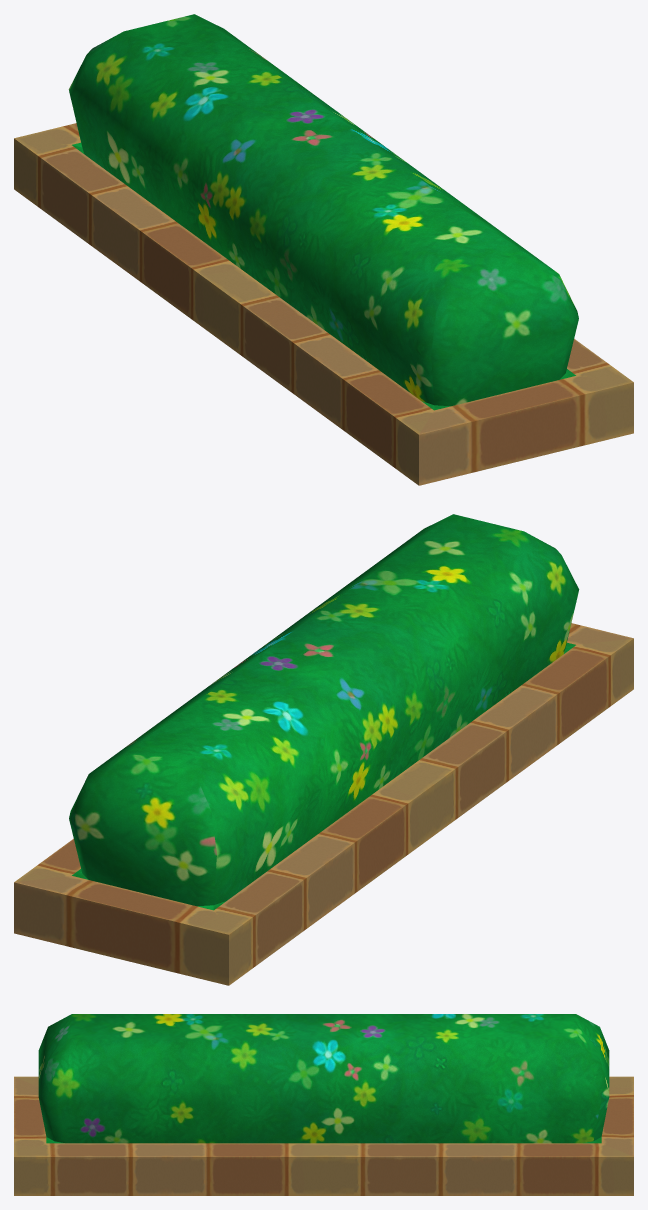
The model's file is Plant02_e04.FBX.
3 renders of one model, top to bottom at view 1: azimuth 30°, elevation 25°; view 2: azimuth 150°, elevation 25°; view 3: azimuth 270°, elevation 25°, orthographic. The views are drawn at different scales.
Visible parts, largest first — view 1: Plant02_e04; view 2: Plant02_e04; view 3: Plant02_e04.
Part boxes in pixels (<box>): Plant02_e04: <box>14,14,633,485</box>; Plant02_e04: <box>14,514,633,985</box>; Plant02_e04: <box>14,1014,633,1195</box>.
Bounding box in the file's own units: 208 × 155 × 678.
Materials: 2 (2 with a texture image).
